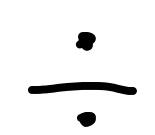div: (28, 32, 137, 127)
